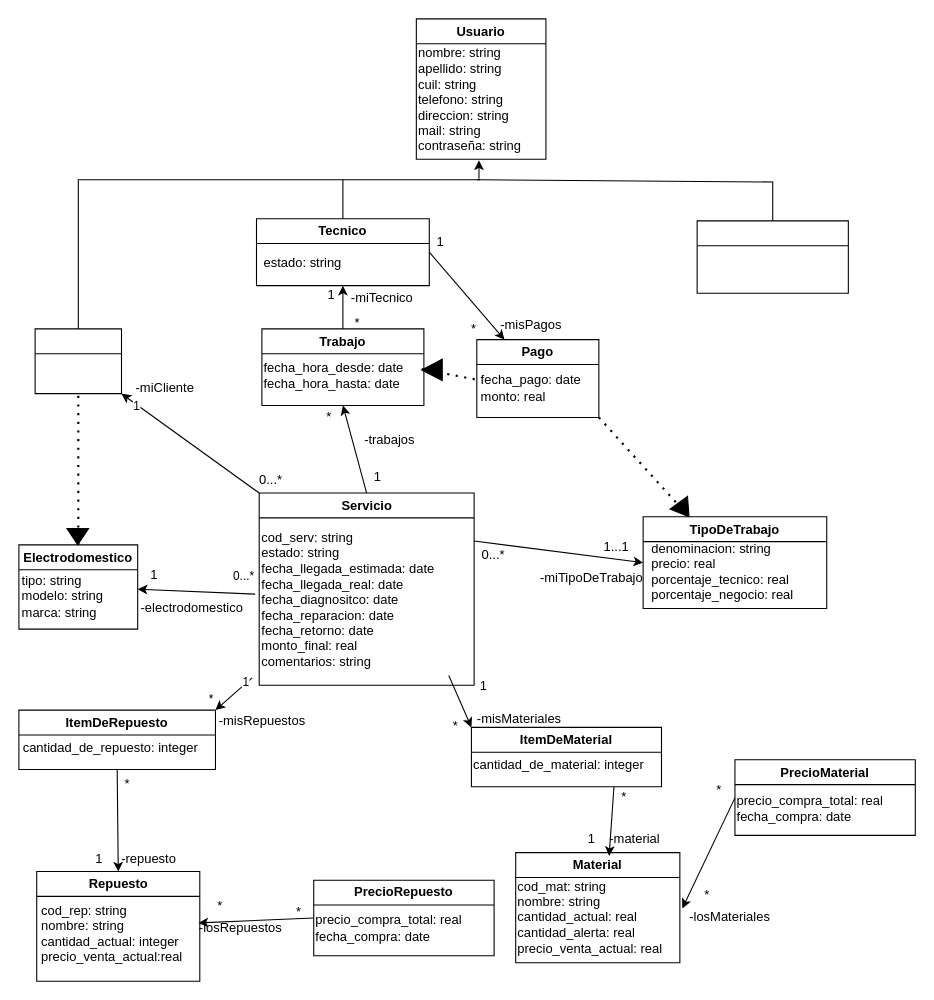
Some shapes in this 934 by 1000 pixel diagram are drawn without their labels. The shapes that lost their labels are listed below. From the top down, each one's centre as x and y in pixels, then its label:
the point at 772,256: Administrador
the point at 78,361: Cliente
